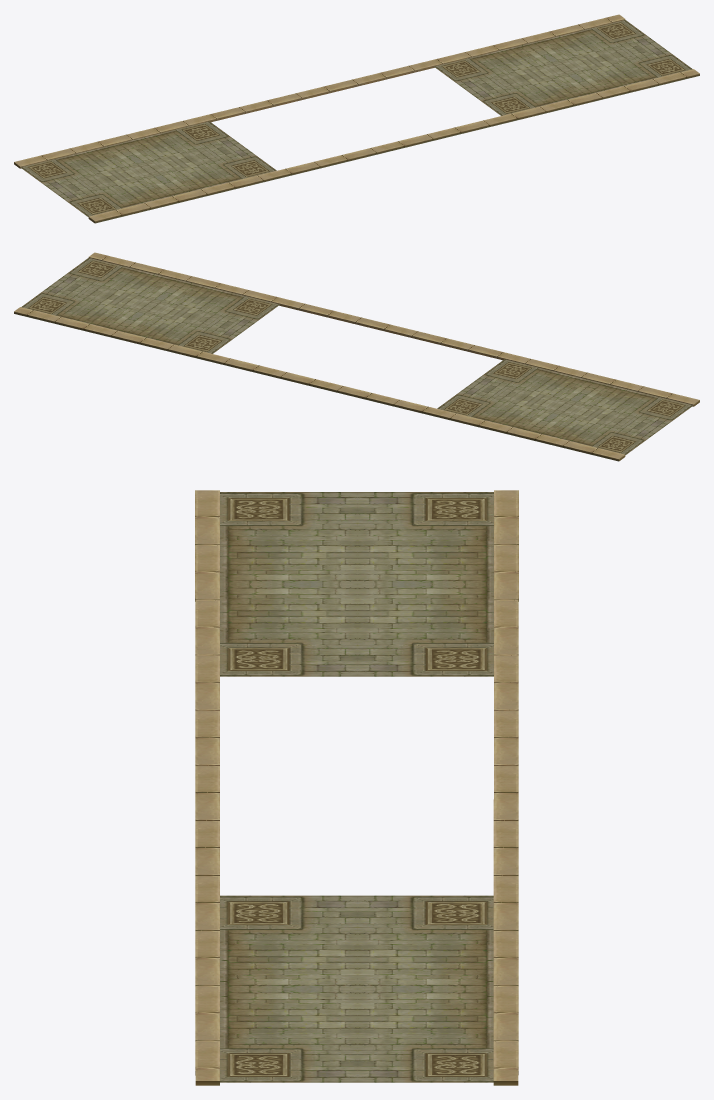
Rendered from Stage_JingJiChang_DiMian01.FBX.
The picture shows the model from 3 angles, top to bottom: view 1: azimuth 30°, elevation 25°; view 2: azimuth 150°, elevation 25°; view 3: azimuth 270°, elevation 25°; orthographic projection. The views are drawn at different scales.
Parts seen in each view (by area): view 1: Stage_JingJiChang_DiMian01; view 2: Stage_JingJiChang_DiMian01; view 3: Stage_JingJiChang_DiMian01.
Boxes of the visible parts, x1,y1,x2,y2 form: Stage_JingJiChang_DiMian01: [14, 14, 699, 223]; Stage_JingJiChang_DiMian01: [14, 252, 699, 461]; Stage_JingJiChang_DiMian01: [195, 490, 518, 1085].
Size of the model in its own units: 7000 by 25.48 by 1622.
